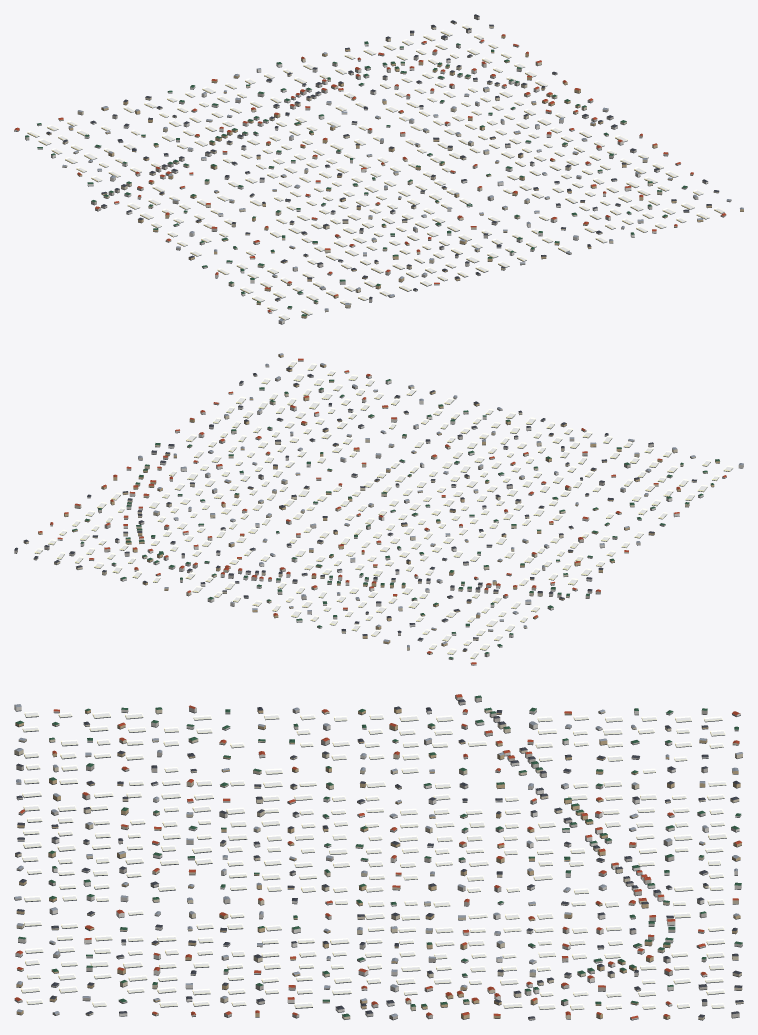
Rendered from buildings_T_E10_S01.glb.
3 renders of one model, top to bottom at view 1: azimuth 30°, elevation 25°; view 2: azimuth 150°, elevation 25°; view 3: azimuth 270°, elevation 25°, orthographic. The views are drawn at different scales.
Visible parts, largest first — view 1: T_E10_S01_roofs_agri_greenhouse_arch, T_E10_S01_slope_seating_foundations, T_E10_S01_walls_wall_pastel_sand_gray, T_E10_S01_walls_wall_modern_warm_white, T_E10_S01_walls_wall_french_ochre_villa, T_E10_S01_roofs_roof_slate_French_villa_hip, T_E10_S01_walls_wall_dalat_cream_stucco, T_E10_S01_roofs_roof_pine_green_hip, T_E10_S01_roofs_roof_terracotta_gable, T_E10_S01_roofs_roof_zinc_silver_gable; view 2: T_E10_S01_roofs_agri_greenhouse_arch, T_E10_S01_slope_seating_foundations, T_E10_S01_walls_wall_modern_warm_white, T_E10_S01_roofs_roof_slate_French_villa_hip, T_E10_S01_walls_wall_pastel_sand_gray, T_E10_S01_walls_wall_french_ochre_villa, T_E10_S01_walls_wall_dalat_cream_stucco, T_E10_S01_roofs_roof_pine_green_hip, T_E10_S01_roofs_roof_terracotta_gable, T_E10_S01_roofs_roof_zinc_silver_gable; view 3: T_E10_S01_roofs_agri_greenhouse_arch, T_E10_S01_slope_seating_foundations, T_E10_S01_walls_wall_pastel_sand_gray, T_E10_S01_walls_wall_modern_warm_white, T_E10_S01_walls_wall_french_ochre_villa, T_E10_S01_roofs_roof_slate_French_villa_hip, T_E10_S01_walls_wall_dalat_cream_stucco, T_E10_S01_roofs_roof_pine_green_hip, T_E10_S01_roofs_roof_terracotta_gable, T_E10_S01_roofs_roof_zinc_silver_gable.
Boxes of the visible parts, <box> form: T_E10_S01_roofs_agri_greenhouse_arch: <box>27,24,724,319</box>; T_E10_S01_slope_seating_foundations: <box>14,18,743,324</box>; T_E10_S01_walls_wall_pastel_sand_gray: <box>25,15,731,301</box>; T_E10_S01_walls_wall_modern_warm_white: <box>14,41,708,324</box>; T_E10_S01_walls_wall_french_ochre_villa: <box>46,35,743,318</box>; T_E10_S01_roofs_roof_slate_French_villa_hip: <box>46,14,718,300</box>; T_E10_S01_walls_wall_dalat_cream_stucco: <box>58,21,718,311</box>; T_E10_S01_roofs_roof_pine_green_hip: <box>25,41,687,316</box>; T_E10_S01_roofs_roof_terracotta_gable: <box>14,34,725,312</box>; T_E10_S01_roofs_roof_zinc_silver_gable: <box>62,52,743,321</box>; T_E10_S01_roofs_agri_greenhouse_arch: <box>34,360,733,658</box>; T_E10_S01_slope_seating_foundations: <box>14,356,742,665</box>; T_E10_S01_walls_wall_modern_warm_white: <box>57,375,743,665</box>; T_E10_S01_roofs_roof_slate_French_villa_hip: <box>14,367,696,650</box>; T_E10_S01_walls_wall_pastel_sand_gray: <box>14,360,672,659</box>; T_E10_S01_walls_wall_french_ochre_villa: <box>38,354,719,651</box>; T_E10_S01_walls_wall_dalat_cream_stucco: <box>23,371,707,654</box>; T_E10_S01_roofs_roof_pine_green_hip: <box>72,379,719,658</box>; T_E10_S01_roofs_roof_terracotta_gable: <box>38,358,726,664</box>; T_E10_S01_roofs_roof_zinc_silver_gable: <box>138,353,743,647</box>; T_E10_S01_roofs_agri_greenhouse_arch: <box>21,711,726,1009</box>; T_E10_S01_slope_seating_foundations: <box>14,698,743,1020</box>; T_E10_S01_walls_wall_pastel_sand_gray: <box>14,695,739,1020</box>; T_E10_S01_walls_wall_modern_warm_white: <box>14,705,742,1016</box>; T_E10_S01_walls_wall_french_ochre_villa: <box>15,708,741,1019</box>; T_E10_S01_roofs_roof_slate_French_villa_hip: <box>15,699,743,1018</box>; T_E10_S01_walls_wall_dalat_cream_stucco: <box>14,708,743,1019</box>; T_E10_S01_roofs_roof_pine_green_hip: <box>15,695,742,1016</box>; T_E10_S01_roofs_roof_terracotta_gable: <box>14,694,741,1018</box>; T_E10_S01_roofs_roof_zinc_silver_gable: <box>14,704,742,1016</box>.
Size of the model in its own units: 1828 by 29.36 by 1753.
